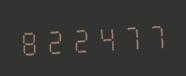eight: (17, 23, 41, 58)
four: (93, 20, 117, 54)
seven: (118, 18, 142, 53), (143, 17, 167, 52)
two: (42, 22, 66, 57), (68, 21, 92, 56)
